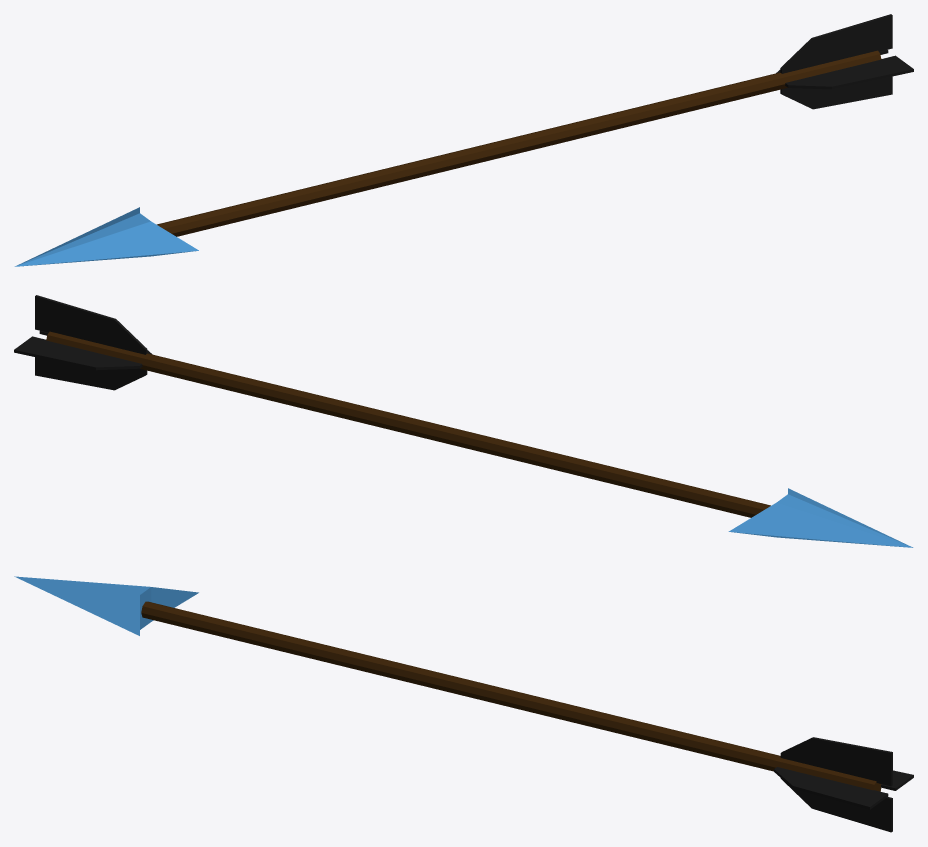
Rendered from ice_arrow.fbx.
3 views of the same model, one above another, from view 1: azimuth 30°, elevation 25°; view 2: azimuth 150°, elevation 25°; view 3: azimuth 330°, elevation 25° (orthographic).
Visible parts, largest first — view 1: Ice_Arrow; view 2: Ice_Arrow; view 3: Ice_Arrow.
Boxes of the visible parts, <box> form: Ice_Arrow: <box>14,14,913,266</box>; Ice_Arrow: <box>14,295,913,547</box>; Ice_Arrow: <box>14,576,913,832</box>.
Size of the model in its own units: 0.8586 by 0.0742 by 0.1011.
